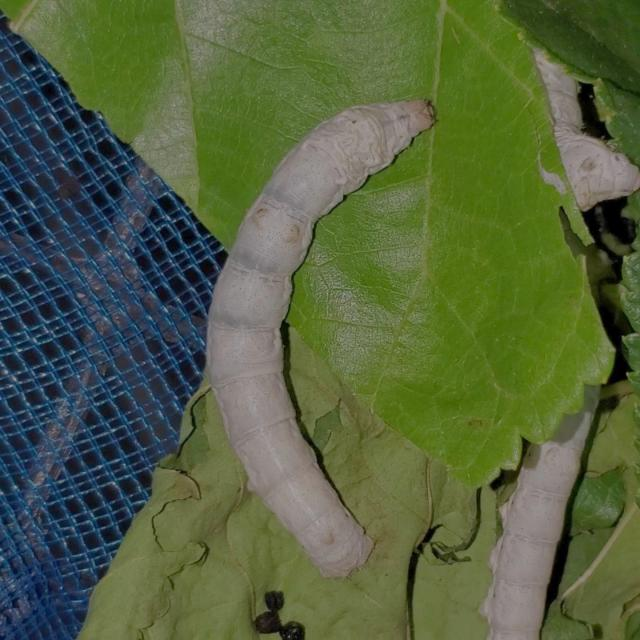Healthy: (169, 38, 467, 594)
